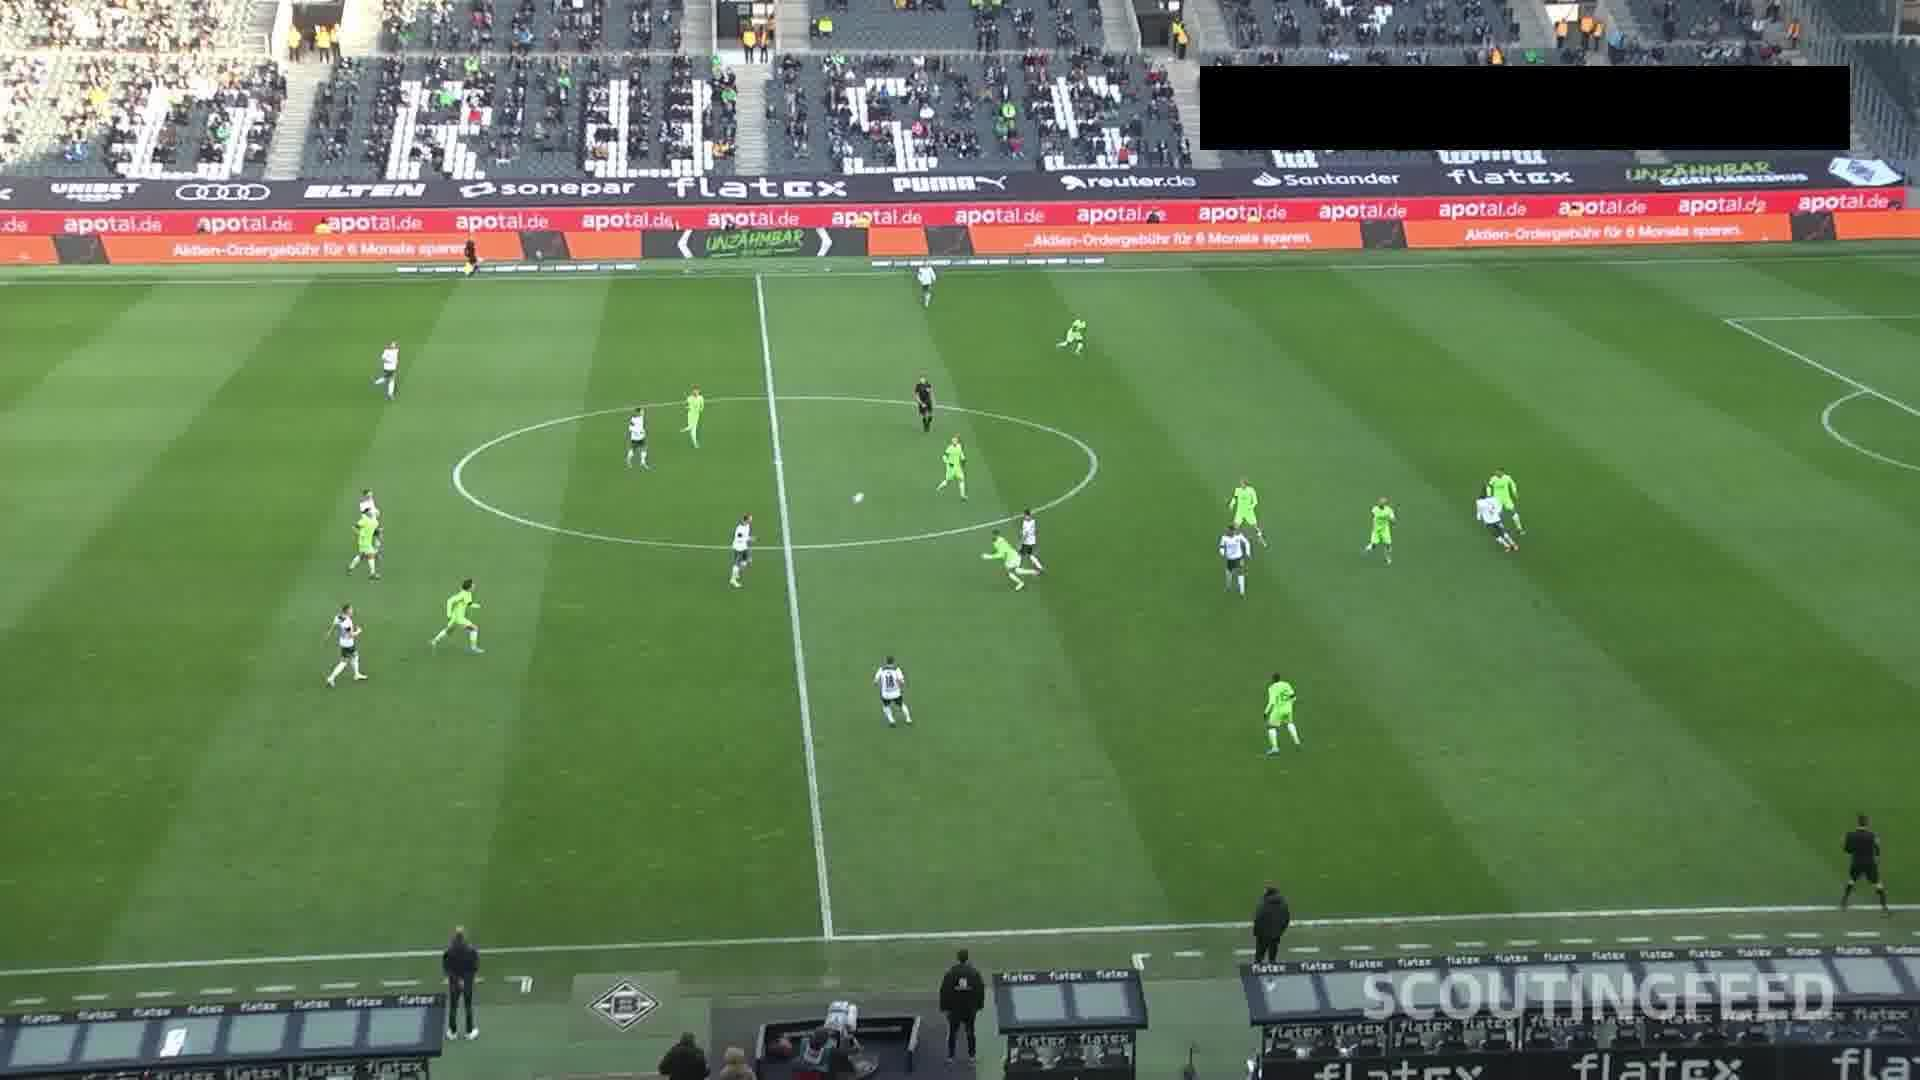football: (851, 491, 864, 505)
